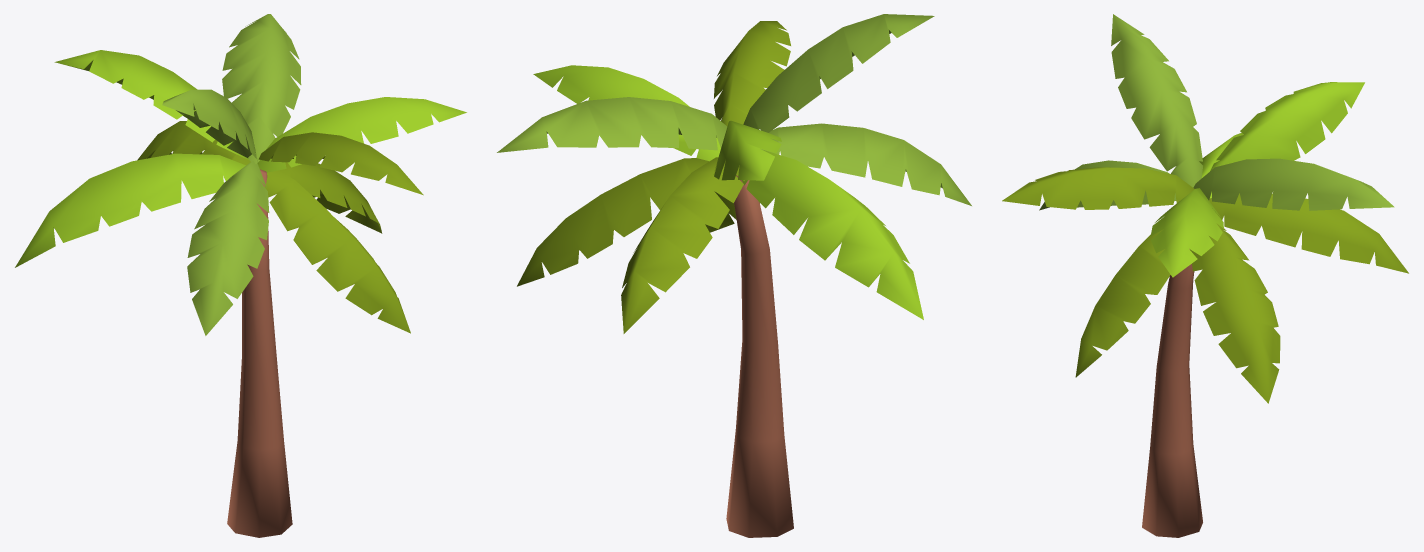
File: Palm_Lime_2.fbx
3 views of the same model, side by side, from view 1: azimuth 30°, elevation 25°; view 2: azimuth 150°, elevation 25°; view 3: azimuth 270°, elevation 25° (orthographic). The views are drawn at different scales.
Parts seen in each view (by area): view 1: Cube_133, Plane_178, Plane_179, Plane_174, Plane_183, Plane_180, Plane_177, Plane_175, Plane_182, Plane_176, Plane_181; view 2: Cube_133, Plane_178, Plane_181, Plane_183, Plane_176, Plane_179, Plane_182, Plane_177, Plane_180, Plane_175; view 3: Cube_133, Plane_176, Plane_182, Plane_183, Plane_175, Plane_181, Plane_177, Plane_174, Plane_180, Plane_179.
Part boxes in pixels (bbox=[...]): Cube_133: bbox=[227, 169, 292, 537]; Plane_178: bbox=[15, 153, 245, 267]; Plane_179: bbox=[187, 161, 269, 335]; Plane_174: bbox=[265, 170, 410, 333]; Plane_183: bbox=[222, 14, 301, 163]; Plane_180: bbox=[257, 97, 466, 172]; Plane_177: bbox=[258, 132, 423, 195]; Plane_175: bbox=[54, 50, 249, 160]; Plane_182: bbox=[162, 89, 257, 160]; Plane_176: bbox=[279, 162, 382, 233]; Plane_181: bbox=[137, 121, 250, 165]; Cube_133: bbox=[726, 175, 793, 537]; Plane_178: bbox=[742, 150, 923, 319]; Plane_181: bbox=[621, 157, 744, 333]; Plane_183: bbox=[497, 97, 727, 152]; Plane_176: bbox=[517, 158, 708, 286]; Plane_179: bbox=[761, 123, 971, 205]; Plane_182: bbox=[743, 14, 934, 132]; Plane_177: bbox=[714, 21, 790, 126]; Plane_180: bbox=[533, 65, 720, 161]; Plane_175: bbox=[714, 120, 781, 180]; Cube_133: bbox=[1142, 249, 1202, 537]; Plane_176: bbox=[1190, 223, 1280, 403]; Plane_182: bbox=[1111, 14, 1202, 187]; Plane_183: bbox=[1193, 158, 1394, 210]; Plane_175: bbox=[1210, 82, 1364, 170]; Plane_181: bbox=[1209, 193, 1408, 273]; Plane_177: bbox=[1002, 167, 1194, 209]; Plane_174: bbox=[1075, 229, 1170, 377]; Plane_180: bbox=[1150, 188, 1223, 277]; Plane_179: bbox=[1039, 160, 1176, 210].
Bounding box in the file's own units: 536 × 598 × 490.
